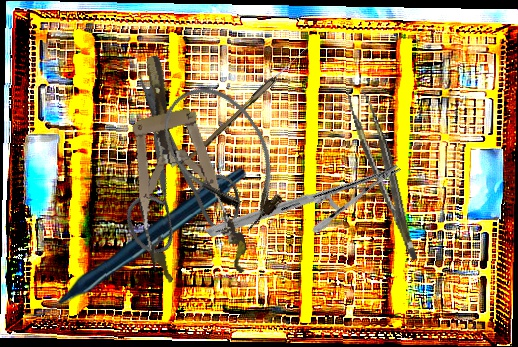Cannula: (146, 69, 304, 243)
Handpiece: (22, 164, 247, 321)
Iris Scissors: (56, 66, 278, 283)
Needle Holder: (204, 98, 403, 303)
Speculum: (107, 45, 252, 292)
Surgical Spoon: (177, 43, 310, 173)
Tissue Forceps: (346, 85, 418, 266)
